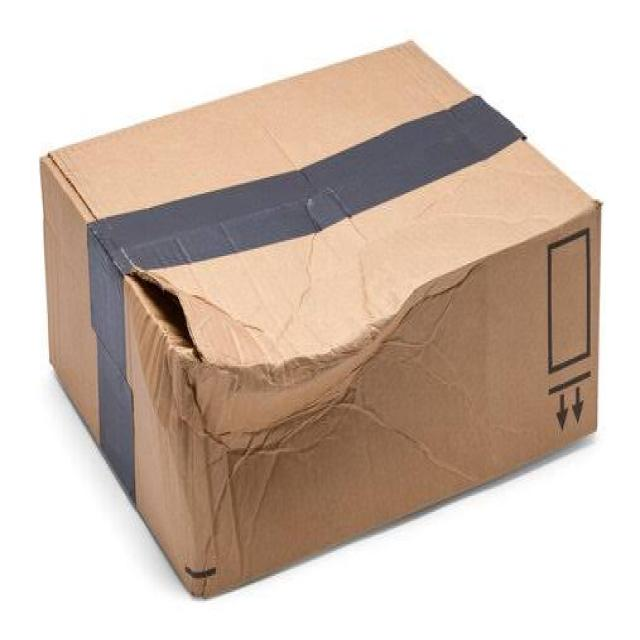carton_box: (33, 35, 606, 602)
package_damage: (104, 242, 432, 493)
this_side_up_label: (542, 229, 599, 440)
